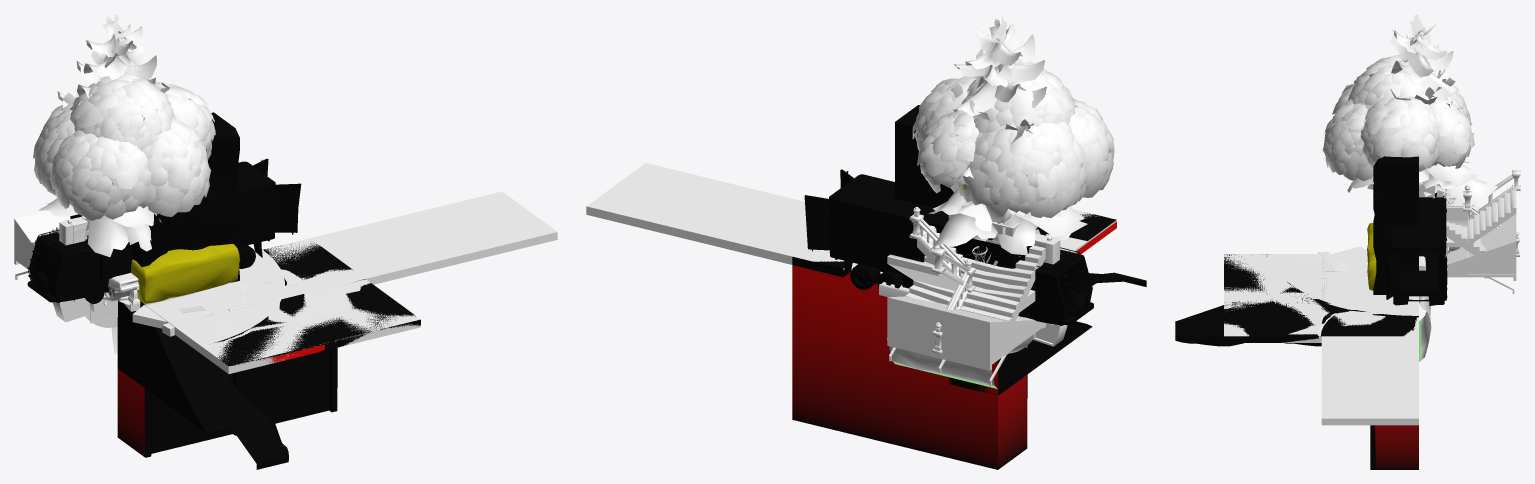
The model's file is performance-city-0.glb.
The picture shows the model from 3 angles, left to right: view 1: azimuth 30°, elevation 25°; view 2: azimuth 150°, elevation 25°; view 3: azimuth 270°, elevation 25°; orthographic projection. The views are drawn at different scales.
Visible parts, largest first — view 1: /Game/Athena/Prototype/Terrain/Athena_Tree_Medium_03, /Game/Environments/World/Sidewalks/Meshes/S_Sidewalk_1x4_NoC, /Game/Packages/DS_Fortnite_Terrain_NoLOD/RetainingWalls/S_Wa, /Game/Environments/World/Sidewalks/Meshes/S_Sidewalk_InsideC, /Game/Packages/DS_Fortnight/SM/Mesh/S_SmallStreets_Turn, /Game/Packages/DS_Fortnite_Terrain_NoLOD/Elevation/S_Cave_Ra, /Game/Packages/DS_Fortnite_Terrain_NoLOD/Elevation/S_Cave_St, /Game/Athena/Environments/Meshes/Athena_Pine_01, /Game/Vehicles/FORT_Vehicles_01/Meshes/SemiTruck_Trailer_01b, /Game/Packages/DS_Fortnite_Terrain_NoLOD/Elevation/S_GeoSlop, /Game/Environments/Props/Shrubs/Meshes/Shrub_Rectangle_192, /Game/Vehicles/FORT_Vehicles_01/Meshes/Camper (+7 smaller); view 2: /Game/Packages/DS_Fortnite_Terrain_NoLOD/RetainingWalls/S_Wa, /Game/Athena/Prototype/Terrain/Athena_Tree_Medium_03, /Game/Environments/World/Sidewalks/Meshes/S_Sidewalk_1x4_NoC, /Game/Vehicles/FORT_Vehicles_01/Meshes/SemiTruck_Trailer_01b, /Game/Athena/Environments/Meshes/Athena_Pine_01, /Game/Environments/Sets/ParkingGarage/Meshes/SM_FloorBigRamp, /Game/Vehicles/FORT_Vehicles_01/Meshes/Camper, /Game/Environments/Sets/NeoClassical/Meshes/SM_Fort_Neo_Clas, /Game/Environments/Sets/Prairie/Meshes/Rural_House_Stair_1, /Game/Packages/DS_Fortnite_Terrain_NoLOD/Elevation/S_Cave_St, /Game/Packages/DS_Fortnite_Terrain_NoLOD/Elevation/S_Cave_Ra, /Game/Packages/DS_Fortnite_Terrain_NoLOD/Elevation/S_Undergr (+3 smaller); view 3: /Game/Athena/Prototype/Terrain/Athena_Tree_Medium_03, /Game/Environments/World/Sidewalks/Meshes/S_Sidewalk_1x4_NoC, /Game/Packages/DS_Fortnight/SM/Mesh/S_SmallStreets_Turn, /Game/Environments/World/Sidewalks/Meshes/S_Sidewalk_InsideC, /Game/Athena/Environments/Meshes/Athena_Pine_01, /Game/Vehicles/FORT_Vehicles_01/Meshes/SemiTruck_Trailer_01b, /Game/Packages/DS_Fortnite_Terrain_NoLOD/Elevation/S_Cave_St, /Game/Environments/Sets/ParkingGarage/Meshes/SM_FloorBigRamp, /Game/Packages/DS_Fortnite_Terrain_NoLOD/RetainingWalls/S_Wa, /Game/Environments/World/Sidewalks/Meshes/S_Sidewalk_1x2, /Game/Environments/Sets/Prairie/Meshes/Rural_House_Stair_1, /Game/Packages/DS_Fortnite_Terrain_NoLOD/Elevation/S_GeoSlop (+8 smaller).
Part boxes in pixels (x1,y1,x2,y2): /Game/Athena/Prototype/Terrain/Athena_Tree_Medium_03: (33, 72, 215, 220); /Game/Environments/World/Sidewalks/Meshes/S_Sidewalk_1x4_NoC: (148, 191, 557, 325); /Game/Packages/DS_Fortnite_Terrain_NoLOD/RetainingWalls/S_Wa: (117, 347, 337, 457); /Game/Environments/World/Sidewalks/Meshes/S_Sidewalk_InsideC: (146, 275, 420, 373); /Game/Packages/DS_Fortnight/SM/Mesh/S_SmallStreets_Turn: (140, 243, 420, 366); /Game/Packages/DS_Fortnite_Terrain_NoLOD/Elevation/S_Cave_Ra: (117, 300, 230, 432); /Game/Packages/DS_Fortnite_Terrain_NoLOD/Elevation/S_Cave_St: (132, 112, 239, 303); /Game/Athena/Environments/Meshes/Athena_Pine_01: (38, 14, 156, 257); /Game/Vehicles/FORT_Vehicles_01/Meshes/SemiTruck_Trailer_01b: (70, 158, 301, 280); /Game/Packages/DS_Fortnite_Terrain_NoLOD/Elevation/S_GeoSlop: (161, 328, 288, 469); /Game/Environments/Props/Shrubs/Meshes/Shrub_Rectangle_192: (131, 244, 240, 303); /Game/Vehicles/FORT_Vehicles_01/Meshes/Camper: (27, 230, 108, 303); /Game/Packages/DS_Fortnite_Terrain_NoLOD/RetainingWalls/S_Wa: (792, 265, 1027, 469); /Game/Athena/Prototype/Terrain/Athena_Tree_Medium_03: (912, 61, 1114, 218); /Game/Environments/World/Sidewalks/Meshes/S_Sidewalk_1x4_NoC: (586, 163, 807, 264); /Game/Vehicles/FORT_Vehicles_01/Meshes/SemiTruck_Trailer_01b: (804, 169, 1046, 289); /Game/Athena/Environments/Meshes/Athena_Pine_01: (929, 14, 1087, 255); /Game/Environments/Sets/ParkingGarage/Meshes/SM_FloorBigRamp: (887, 296, 1042, 362); /Game/Vehicles/FORT_Vehicles_01/Meshes/Camper: (901, 247, 1093, 325); /Game/Environments/Sets/NeoClassical/Meshes/SM_Fort_Neo_Clas: (906, 241, 1046, 362); /Game/Environments/Sets/Prairie/Meshes/Rural_House_Stair_1: (887, 247, 1015, 362); /Game/Packages/DS_Fortnite_Terrain_NoLOD/Elevation/S_Cave_St: (895, 105, 953, 207); /Game/Packages/DS_Fortnite_Terrain_NoLOD/Elevation/S_Cave_Ra: (949, 321, 1092, 395); /Game/Packages/DS_Fortnite_Terrain_NoLOD/Elevation/S_Undergr: (889, 346, 997, 388); /Game/Athena/Prototype/Terrain/Athena_Tree_Medium_03: (1322, 55, 1474, 180); /Game/Environments/World/Sidewalks/Meshes/S_Sidewalk_1x4_NoC: (1321, 254, 1418, 425); /Game/Packages/DS_Fortnight/SM/Mesh/S_SmallStreets_Turn: (1224, 254, 1418, 342); /Game/Environments/World/Sidewalks/Meshes/S_Sidewalk_InsideC: (1224, 254, 1367, 342); /Game/Athena/Environments/Meshes/Athena_Pine_01: (1347, 14, 1498, 205); /Game/Vehicles/FORT_Vehicles_01/Meshes/SemiTruck_Trailer_01b: (1385, 192, 1447, 305); /Game/Packages/DS_Fortnite_Terrain_NoLOD/Elevation/S_Cave_St: (1373, 156, 1418, 294); /Game/Environments/Sets/ParkingGarage/Meshes/SM_FloorBigRamp: (1445, 214, 1516, 277); /Game/Packages/DS_Fortnite_Terrain_NoLOD/RetainingWalls/S_Wa: (1370, 425, 1418, 469); /Game/Environments/World/Sidewalks/Meshes/S_Sidewalk_1x2: (1322, 295, 1418, 336); /Game/Environments/Sets/Prairie/Meshes/Rural_House_Stair_1: (1446, 170, 1520, 256); /Game/Packages/DS_Fortnite_Terrain_NoLOD/Elevation/S_GeoSlop: (1175, 305, 1321, 346).
Bounding box in the file's own units: 24.87 × 21.64 × 18.14.
